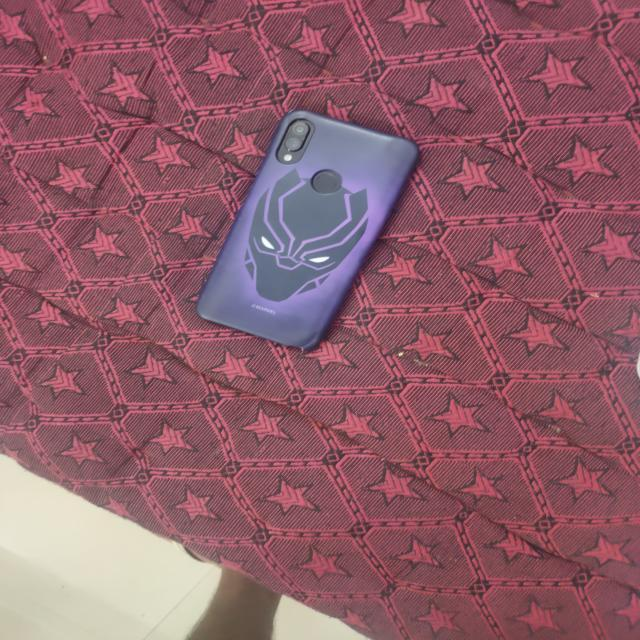Phone: (194, 106, 423, 357)
